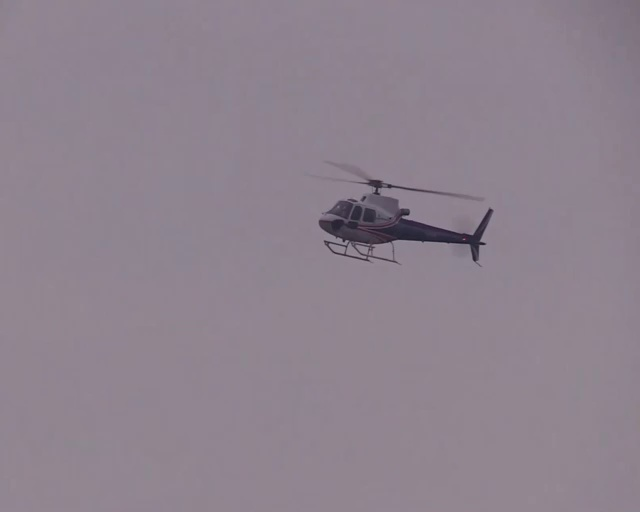HELICOPTER: (306, 157, 493, 267)
